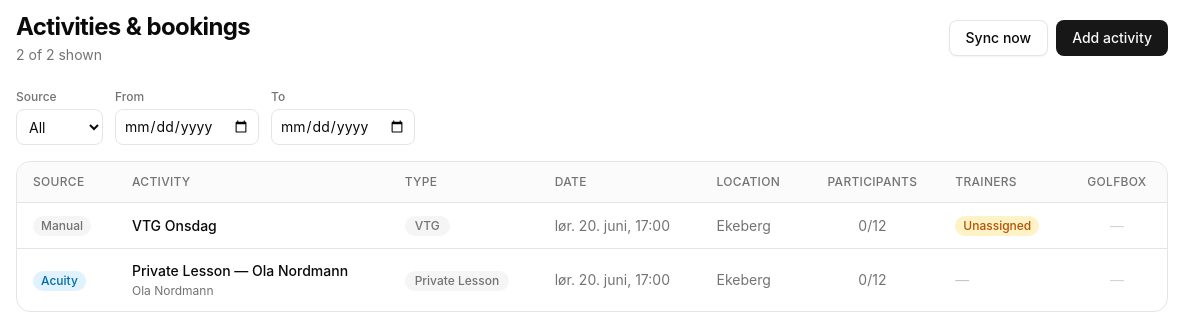
it: ActivitiesPage › filters by source
Expected: the text "VTG Onsdag" is shown, [116,202,389,248]
Select "Acuity" in the dropdown labelled "Source": (60, 127) [16,109,103,145]
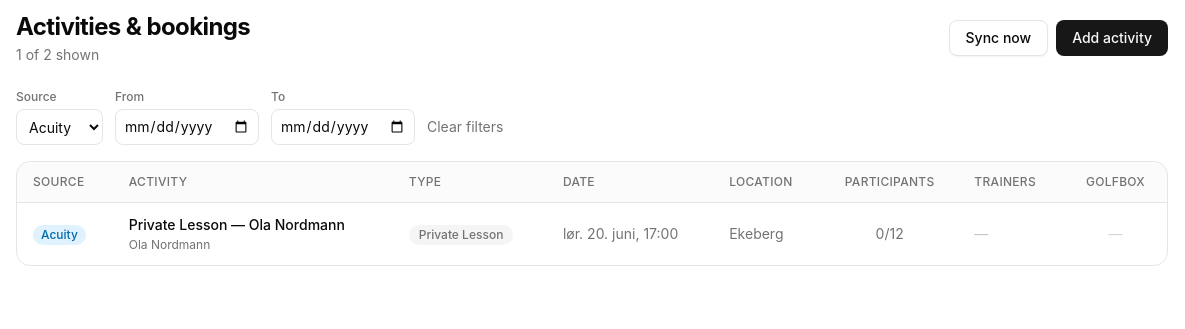
Expected: the text "Private Lesson — Ola Nordmann" is shown, [129,216,345,233]
Now the text "VTG Onsdag" is gone
